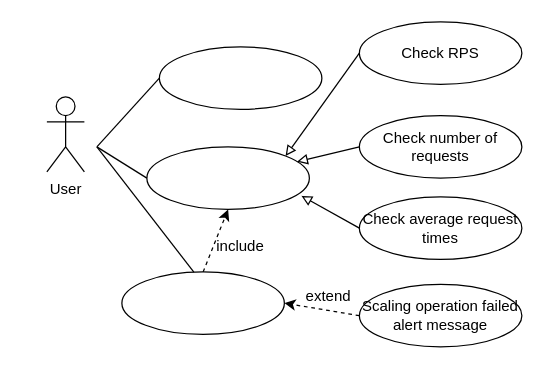
The diagram is 544 pixels wide and 369 high, and some of its shapes have lost their labels. The centre of each missing label's shape, as x and y in pixels:
"Check online services" goes at point (240, 77).
"Perform scaling operation" goes at point (202, 302).
"Visualize workload per microservice" goes at point (227, 177).
